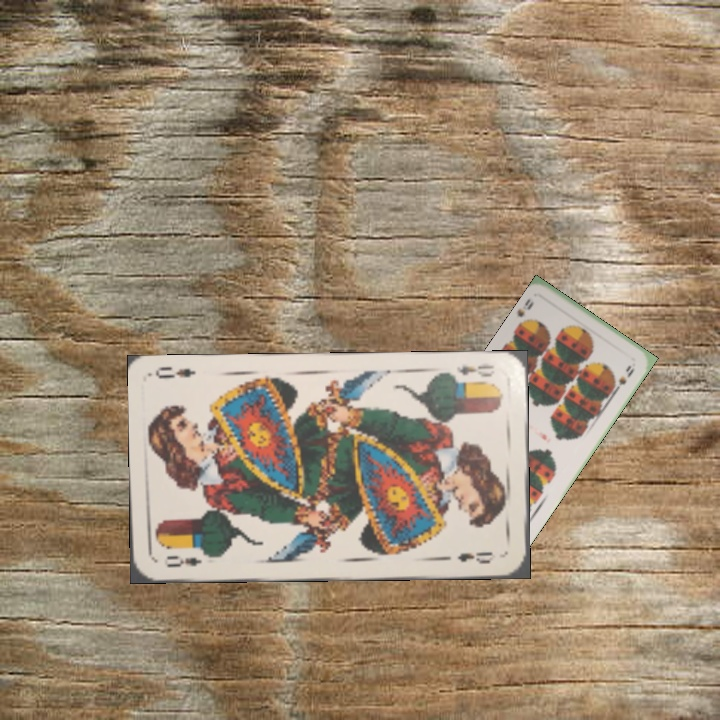EO: (163, 547, 214, 570), (452, 360, 497, 380)
S9: (513, 297, 536, 329)
